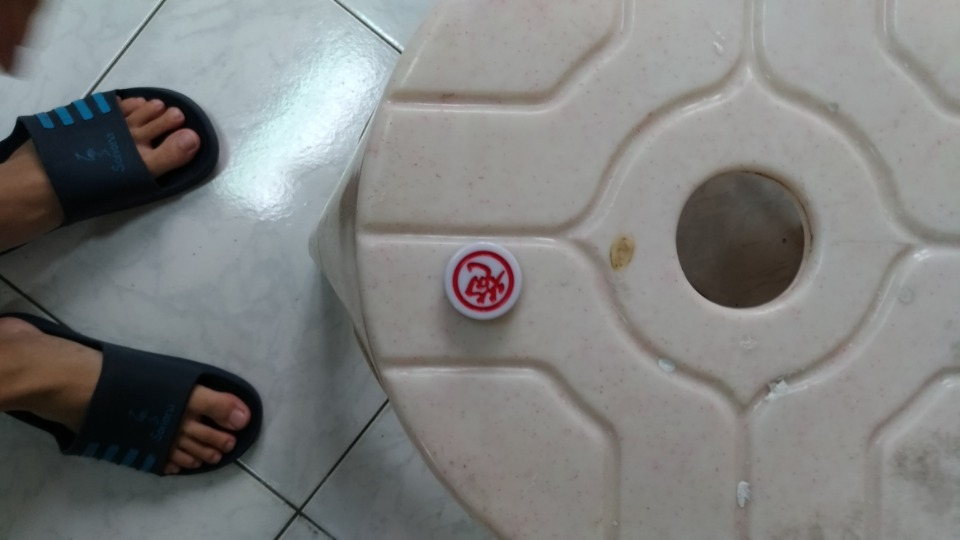r-cannon: (425, 238, 544, 333)
